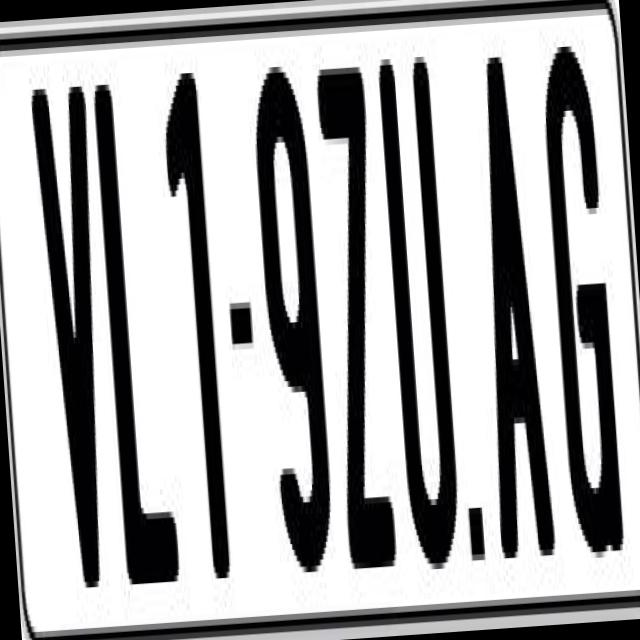1: (156, 55, 229, 568)
9: (246, 59, 342, 585)
A: (465, 49, 558, 570)
G: (536, 28, 622, 554)
L: (90, 75, 184, 590)
U: (372, 38, 465, 576)
V: (26, 74, 120, 606)
Z: (314, 60, 399, 563)
